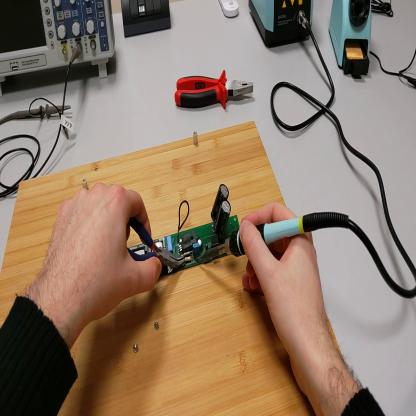hand: (46, 178, 163, 322), (240, 202, 334, 366)
high voltage board: (129, 185, 239, 279)
oscilloscope: (2, 1, 115, 96)
oscilloscope probe tip: (13, 103, 71, 120)
pliers: (175, 65, 255, 113), (128, 217, 186, 269)
welder base: (330, 2, 375, 82)
welder probe tip: (196, 213, 350, 262)
welder station: (250, 1, 314, 50)
working area: (1, 144, 315, 415)
